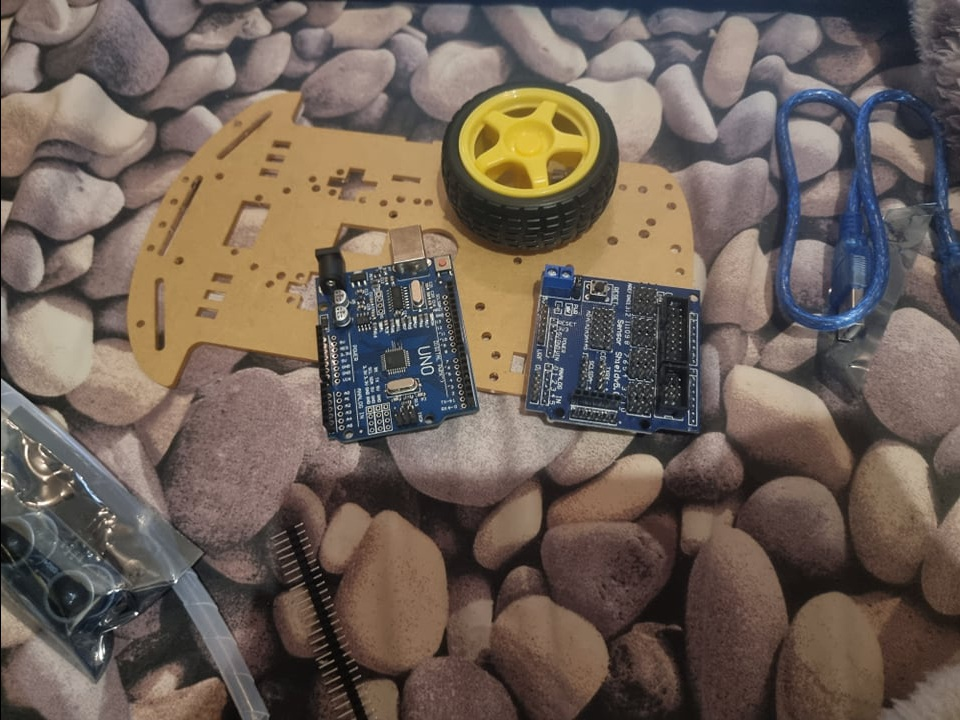5V EXPANSION: (518, 264, 702, 428)
SENSOR: (0, 495, 122, 633)
UNO R3: (314, 227, 481, 446)
